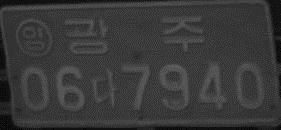0: (233, 61, 266, 111), (19, 66, 51, 114)
4: (195, 61, 228, 111)
6: (54, 66, 86, 112)
7: (119, 64, 151, 111)
9: (158, 63, 191, 111)
광주_D: (63, 16, 205, 57)
다: (90, 68, 119, 110)
영: (15, 18, 54, 58)
